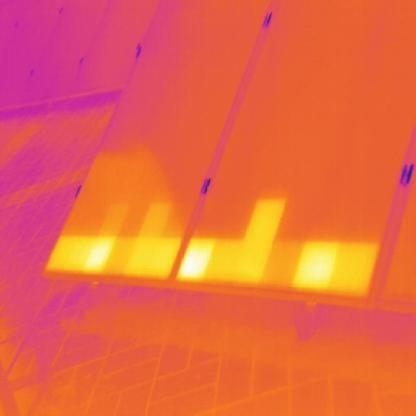anomaly: (177, 202, 384, 293), (46, 230, 180, 281)
